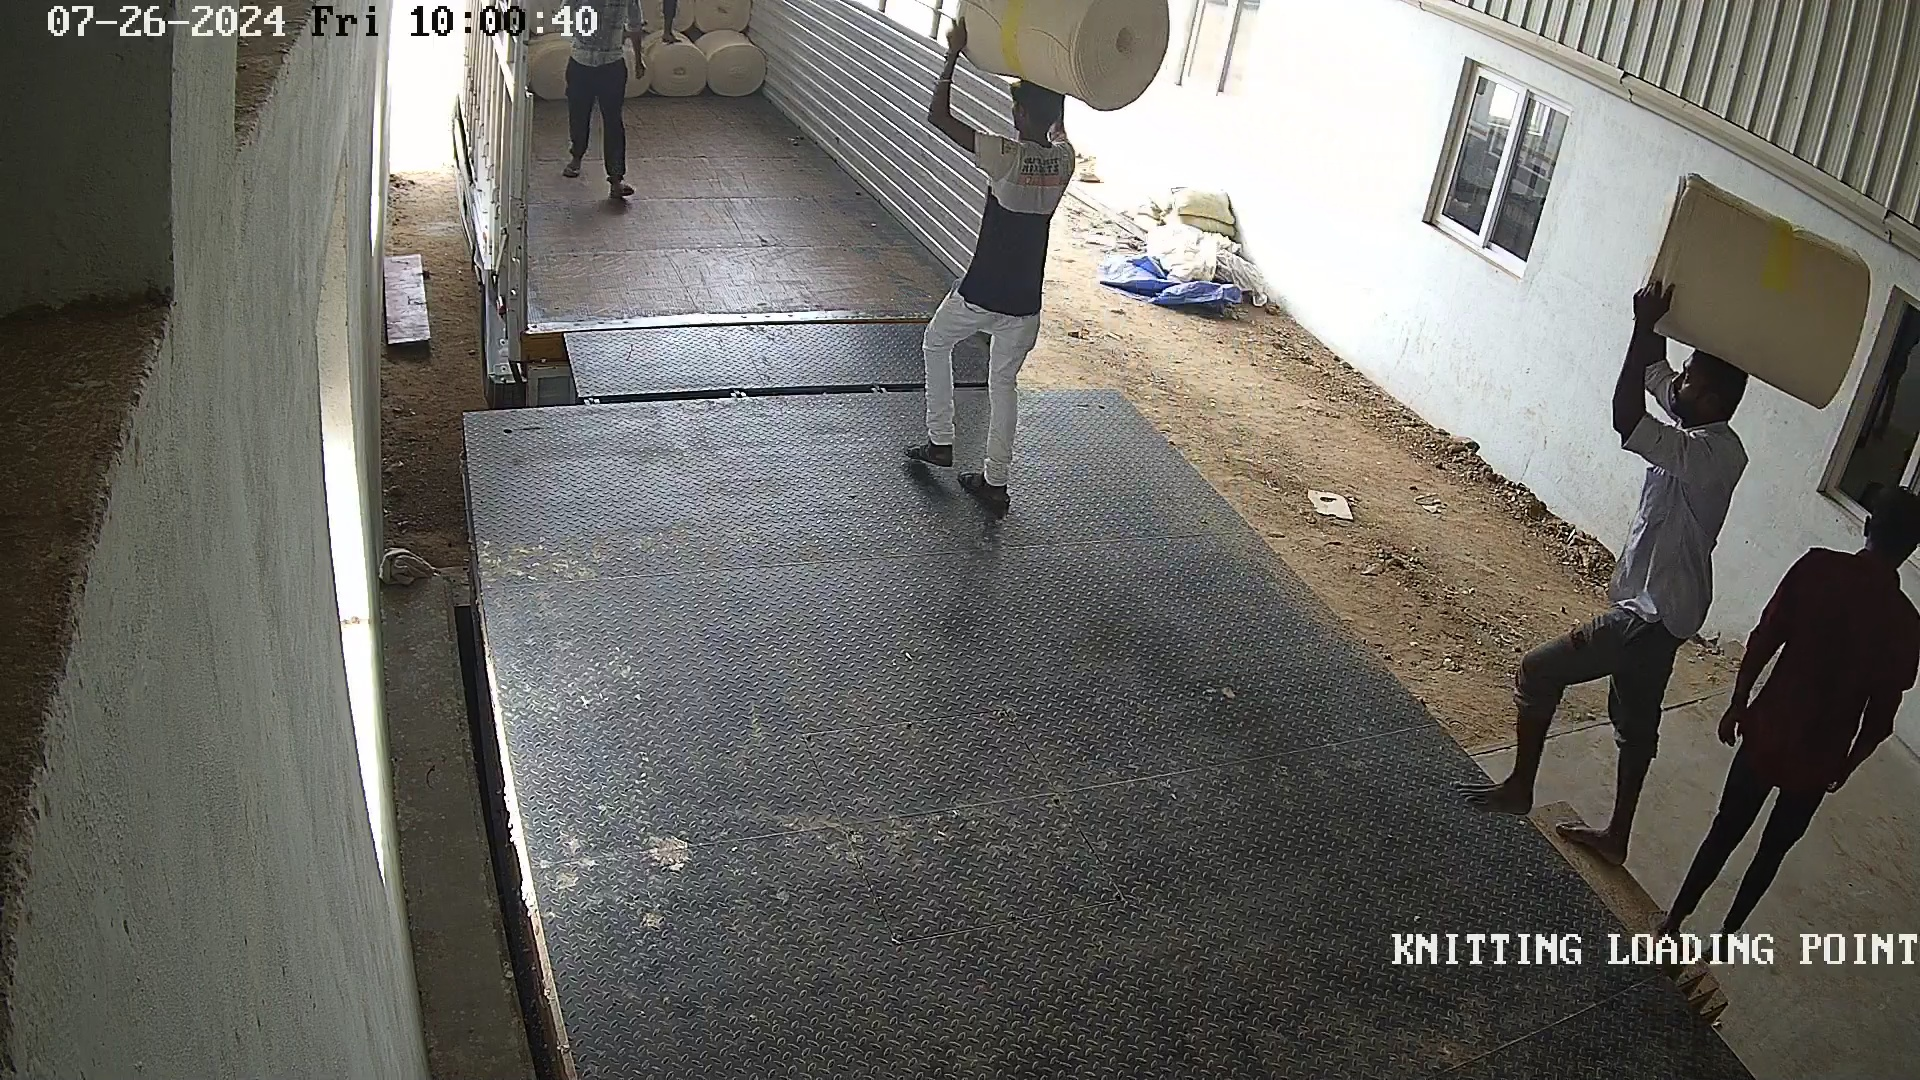bag: (920, 1, 1187, 113)
